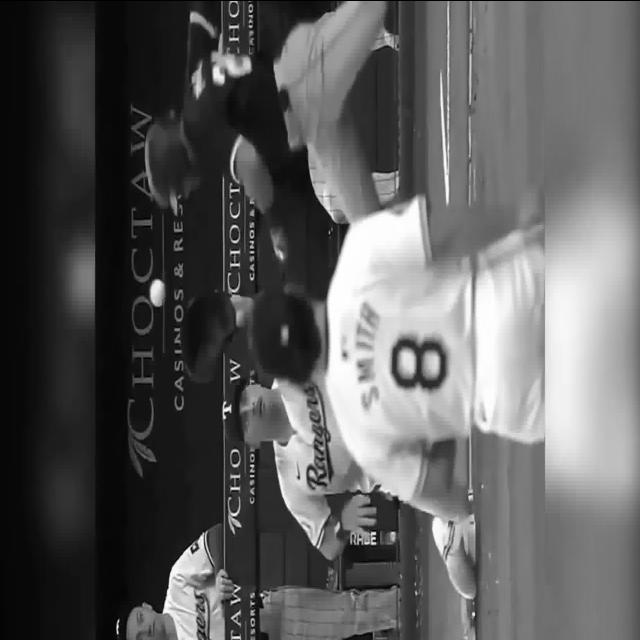base: (465, 495, 478, 640)
baseball: (150, 278, 166, 307)
baseball_glove: (180, 288, 236, 384)
shoe: (431, 514, 477, 600)
